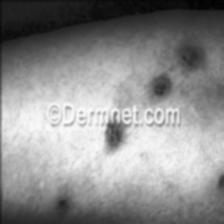Non-Cancerous Skin Condition: (42, 126, 224, 222), (96, 20, 224, 106)
